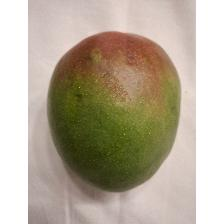Mango: (45, 25, 185, 197)
